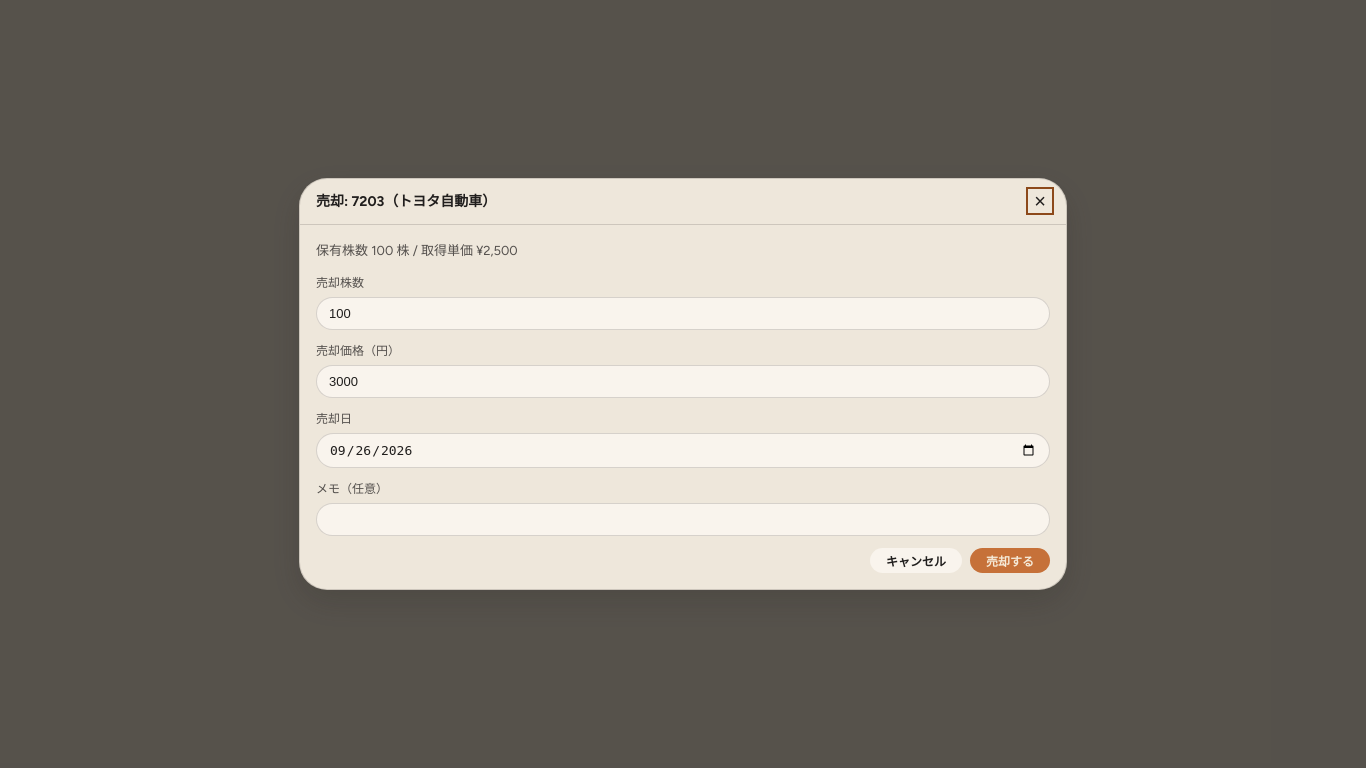
Test: SellHoldingModal › 売却失敗時はエラーメッセージを表示する
The image size is (1366, 768).
Click the button "売却する". click: x=1010, y=561
box: left=970, top=548, right=1050, bottom=573
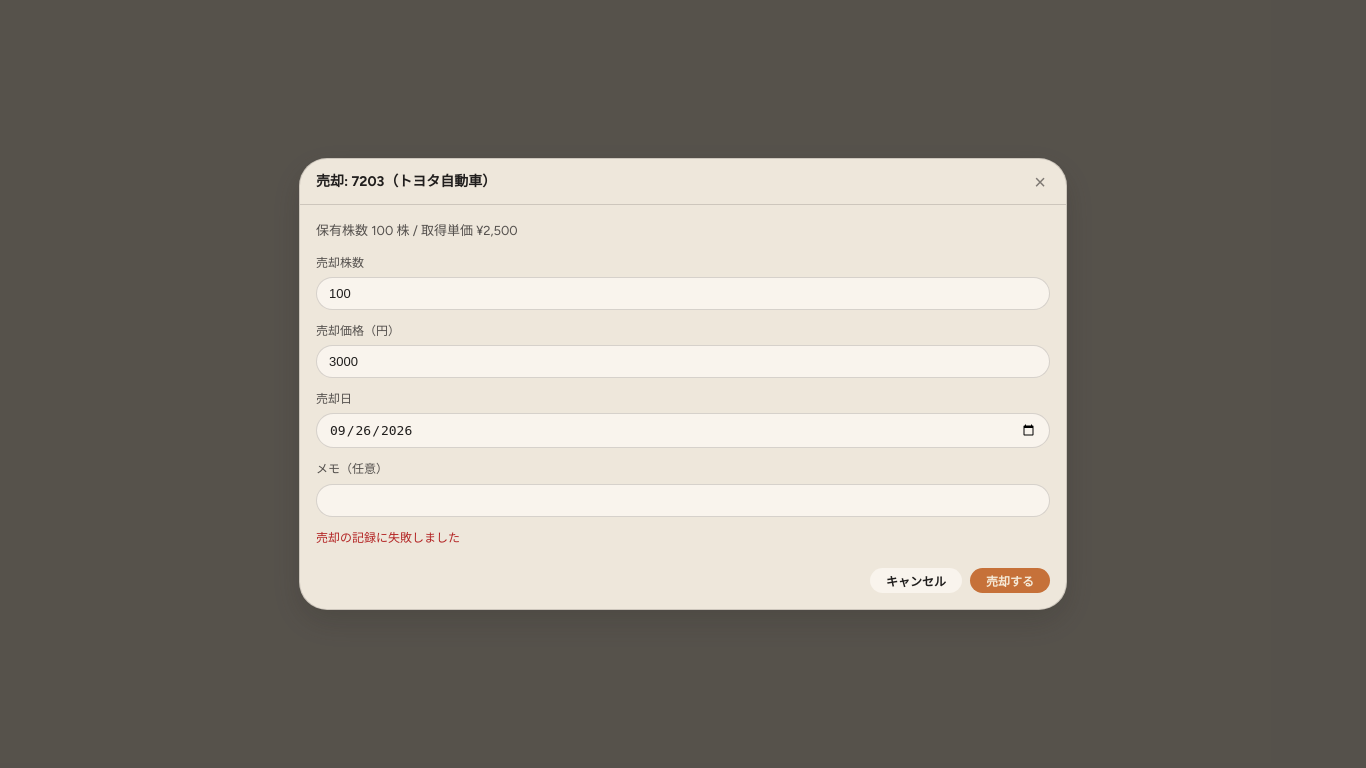
Check: the text "売却の記録に失敗しました" is shown, box left=316, top=531, right=460, bottom=545
